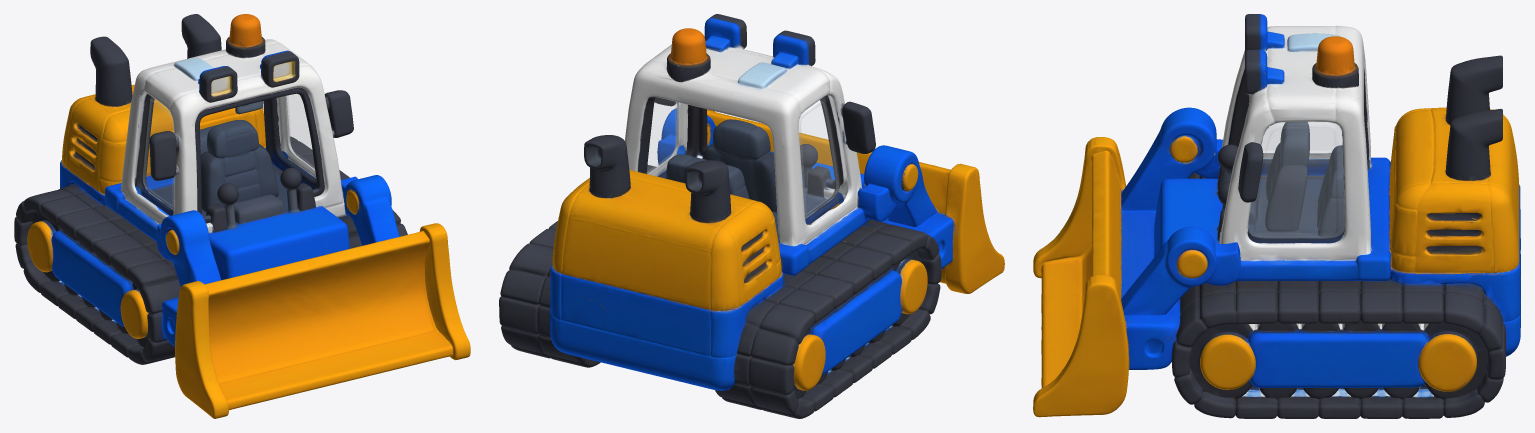
File: dozer.glb
3 renders of one model, left to right at view 1: azimuth 30°, elevation 25°; view 2: azimuth 150°, elevation 25°; view 3: azimuth 270°, elevation 25°, orthographic. The views are drawn at different scales.
Visible parts, largest first — view 1: tripo_part_1, tripo_part_0, tripo_part_2, tripo_part_15, tripo_part_6, tripo_part_28, tripo_part_8, tripo_part_27, tripo_part_26, tripo_part_12, tripo_part_23, tripo_part_13 (+21 smaller); view 2: tripo_part_0, tripo_part_17, tripo_part_7, tripo_part_2, tripo_part_28, tripo_part_8, tripo_part_27, tripo_part_71, tripo_part_12, tripo_part_6, tripo_part_23, tripo_part_44 (+29 smaller); view 3: tripo_part_0, tripo_part_19, tripo_part_18, tripo_part_1, tripo_part_26, tripo_part_3, tripo_part_15, tripo_part_12, tripo_part_44, tripo_part_13, tripo_part_35, tripo_part_16 (+31 smaller).
Boxes of the visible parts, <box> form: tripo_part_1: <box>205,231,452,410</box>; tripo_part_0: <box>105,39,347,241</box>; tripo_part_2: <box>40,196,349,279</box>; tripo_part_15: <box>151,167,348,266</box>; tripo_part_6: <box>200,120,278,211</box>; tripo_part_28: <box>175,281,228,418</box>; tripo_part_8: <box>23,263,174,364</box>; tripo_part_27: <box>51,229,133,333</box>; tripo_part_26: <box>419,223,470,360</box>; tripo_part_12: <box>156,210,221,286</box>; tripo_part_23: <box>65,97,130,189</box>; tripo_part_13: <box>344,175,399,245</box>; tripo_part_0: <box>625,45,870,275</box>; tripo_part_17: <box>636,209,748,390</box>; tripo_part_7: <box>549,296,702,385</box>; tripo_part_2: <box>778,192,911,324</box>; tripo_part_28: <box>944,163,1004,293</box>; tripo_part_8: <box>760,238,941,418</box>; tripo_part_27: <box>810,269,901,375</box>; tripo_part_71: <box>559,251,653,323</box>; tripo_part_12: <box>857,145,937,227</box>; tripo_part_6: <box>702,119,777,212</box>; tripo_part_23: <box>714,201,776,304</box>; tripo_part_44: <box>550,191,661,319</box>; tripo_part_0: <box>1219,25,1391,281</box>; tripo_part_19: <box>1359,144,1502,324</box>; tripo_part_18: <box>1248,321,1428,387</box>; tripo_part_1: <box>1041,151,1121,388</box>; tripo_part_26: <box>1033,275,1129,417</box>; tripo_part_3: <box>1174,363,1484,418</box>; tripo_part_15: <box>1159,175,1327,249</box>; tripo_part_12: <box>1120,107,1222,210</box>; tripo_part_44: <box>1458,143,1520,321</box>; tripo_part_13: <box>1121,226,1216,315</box>; tripo_part_35: <box>1418,321,1487,399</box>; tripo_part_16: <box>1190,324,1255,399</box>.
Size of the model in its own units: 1.73 by 1.72 by 2.35.
90 materials, 86 textured.
